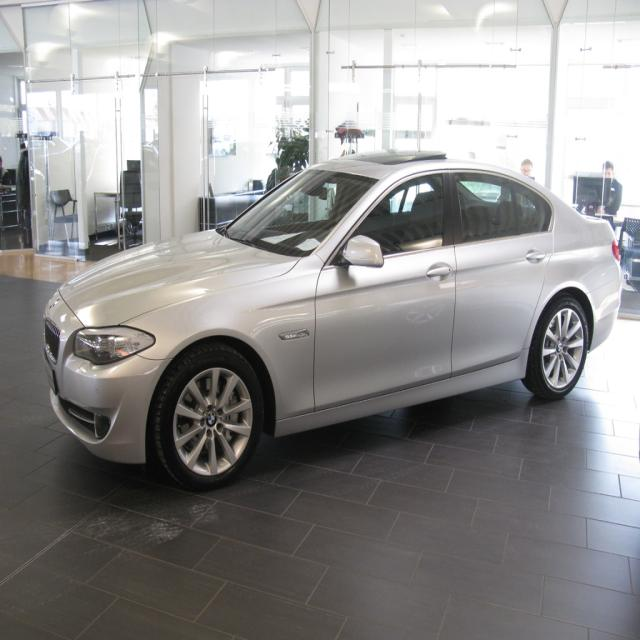car: (41, 150, 621, 495)
